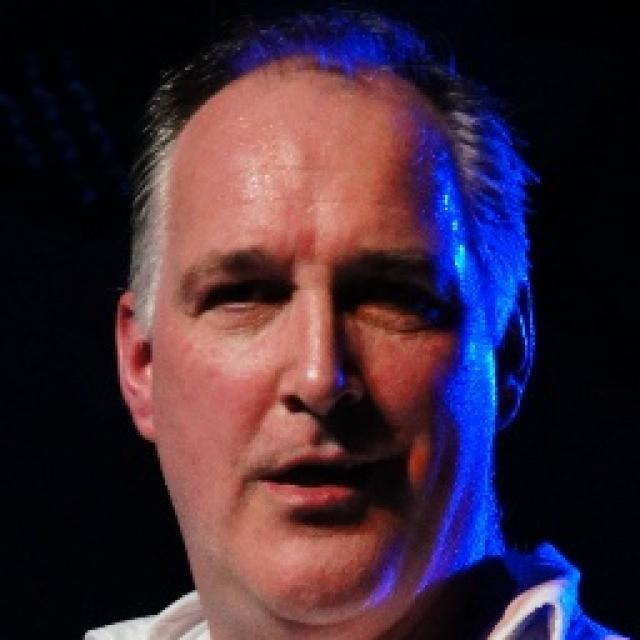earlobe: (129, 394, 158, 443), (492, 386, 520, 432)
eye: (352, 280, 439, 316), (197, 278, 286, 311)
nose: (283, 399, 361, 446)
wholeear: (492, 267, 535, 431), (116, 289, 158, 443)
